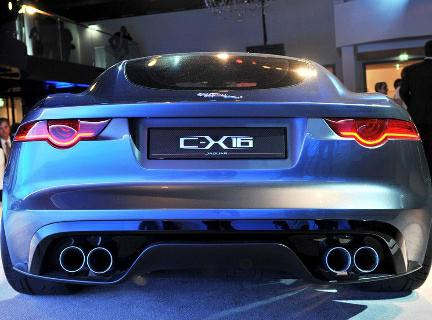捷豹-C-X16: (2, 50, 432, 301)
